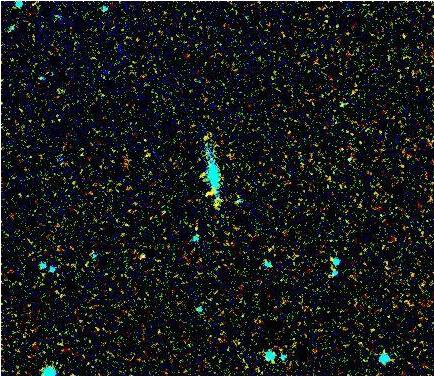star: (186, 178, 216, 208)
